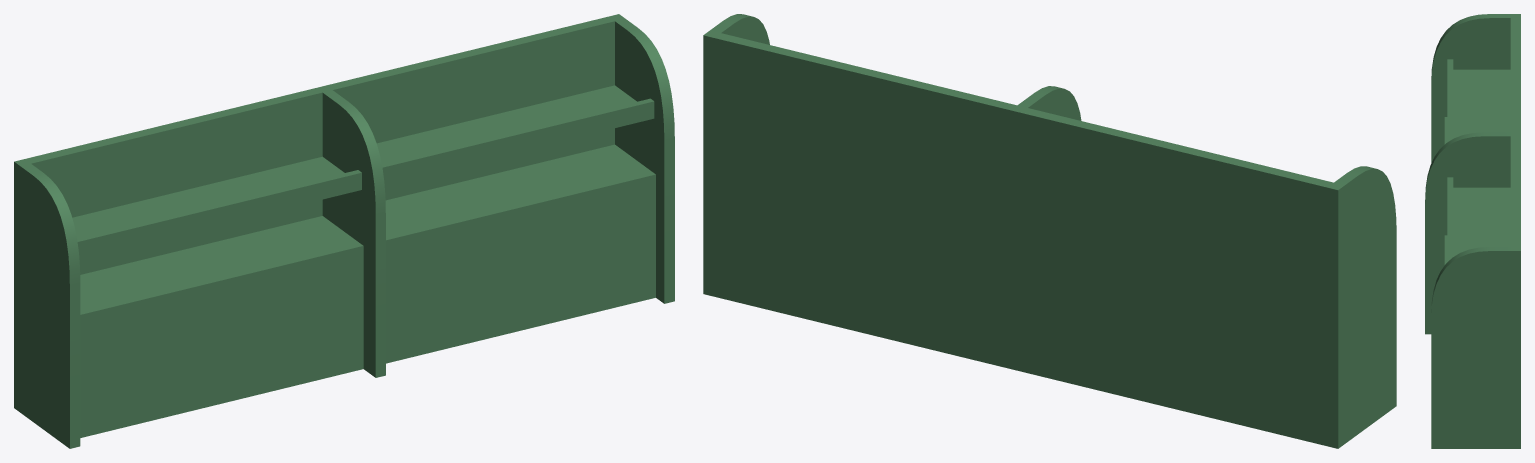
The model's file is Estante 2.fbx.
3 views of the same model, side by side, from view 1: azimuth 30°, elevation 25°; view 2: azimuth 150°, elevation 25°; view 3: azimuth 270°, elevation 25° (orthographic). The views are drawn at different scales.
Visible parts, largest first — view 1: Box032; view 2: Box032; view 3: Box032.
Boxes of the visible parts, left/top/right/bottom form: Box032: left=14, top=14, right=674, bottom=448; Box032: left=703, top=14, right=1396, bottom=448; Box032: left=1425, top=14, right=1520, bottom=448.
Bounding box in the file's own units: 50.85 × 19.8 × 8.67.
